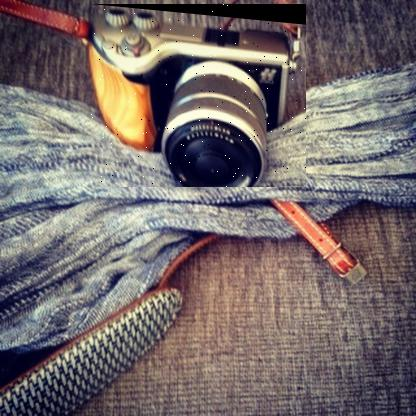Camera: (91, 5, 308, 189)
